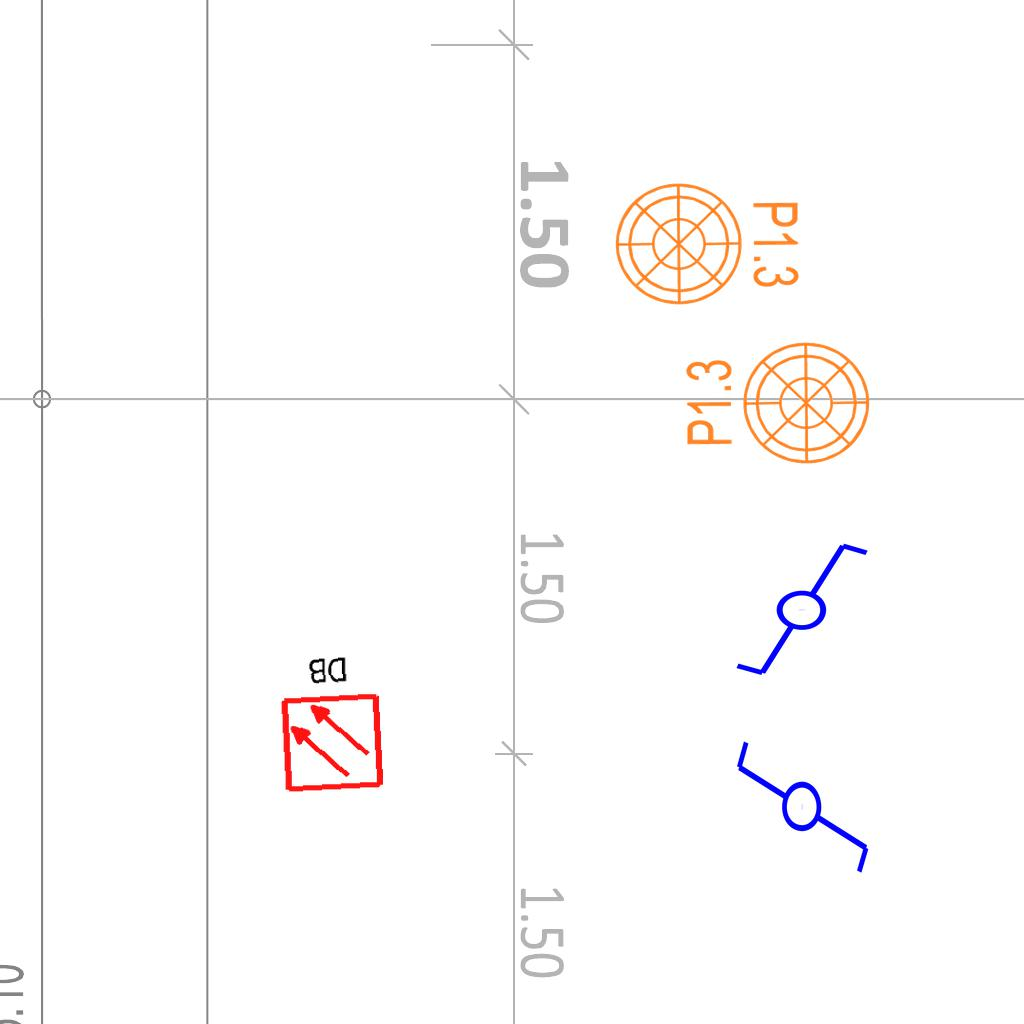Aufbaurundleuchte_LED_Treppenhaus: (612, 180, 817, 319), (668, 328, 873, 467)
DB_Melder_in_Doppelboden_mit_Revisionsoeffnung_mind_40_x_40_cm: (269, 645, 391, 800)
Wechselschalter: (732, 720, 876, 877), (715, 536, 872, 680)
